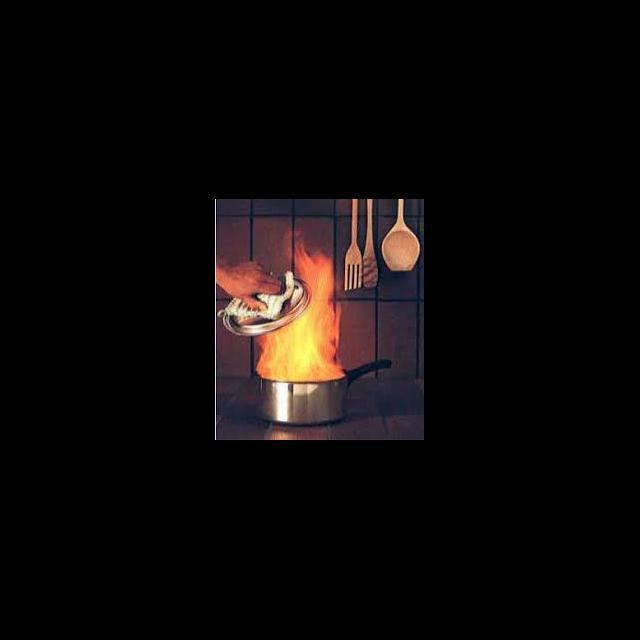Fire: (260, 250, 347, 386)
